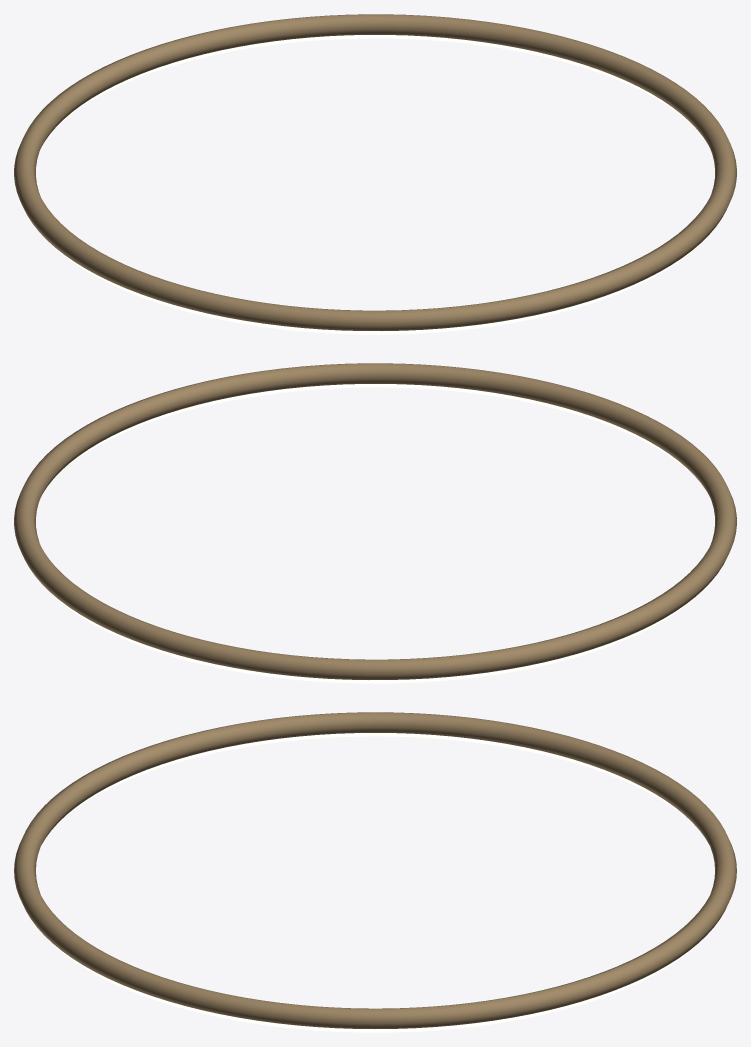
File: source.glb
3 views of the same model, one above another, from view 1: azimuth 30°, elevation 25°; view 2: azimuth 150°, elevation 25°; view 3: azimuth 270°, elevation 25° (orthographic).
Parts seen in each view (by area): view 1: Concept housing, Emitters; view 2: Concept housing, Emitters; view 3: Concept housing, Emitters.
Boxes of the visible parts, x1=… form: Concept housing: x1=14, y1=14, x2=736, y2=330; Emitters: x1=46, y1=35, x2=704, y2=334; Concept housing: x1=14, y1=363, x2=736, y2=679; Emitters: x1=46, y1=384, x2=704, y2=683; Concept housing: x1=14, y1=712, x2=736, y2=1028; Emitters: x1=47, y1=733, x2=703, y2=1032.
Size of the model in its own units: 3.3 by 0.119 by 3.3.
